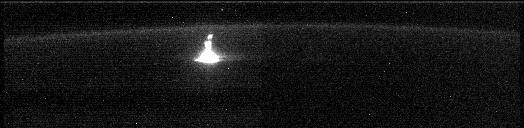positive: (200, 32, 218, 51)
